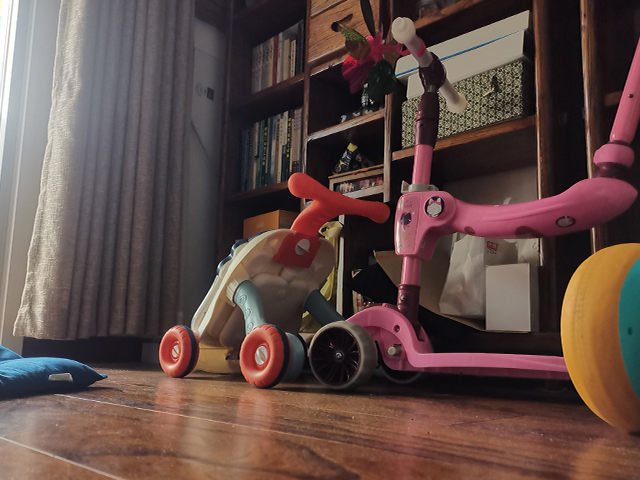curtain: (11, 1, 195, 342)
